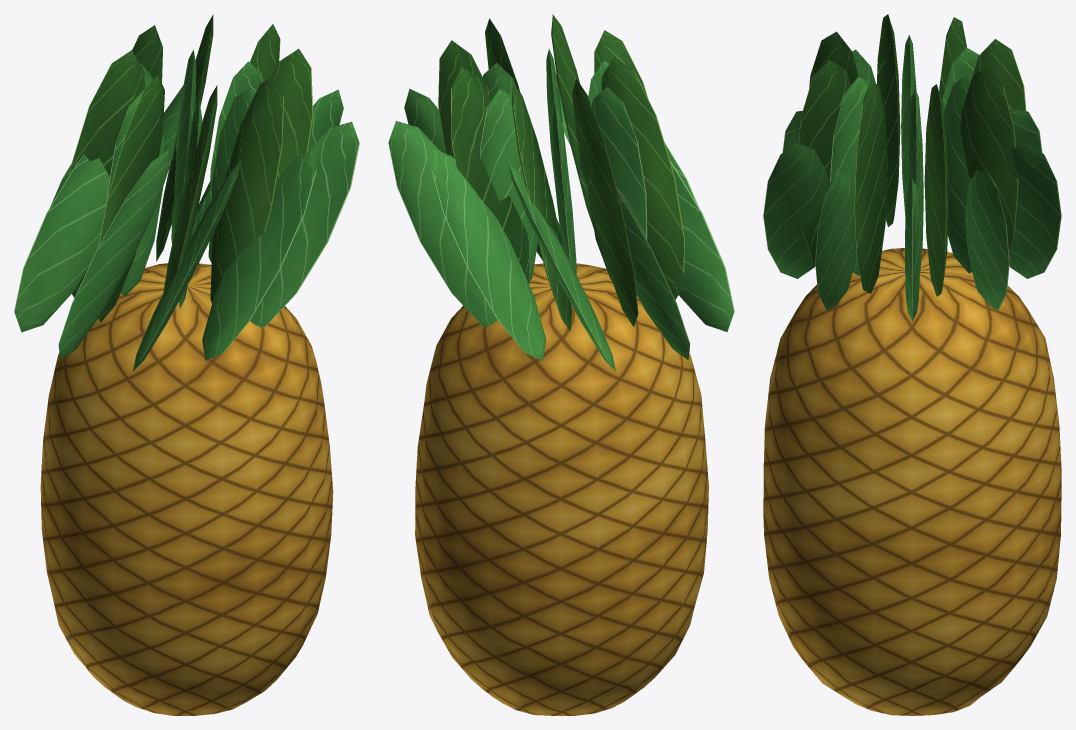
File: fruit_pineapple_whole.glb
The picture shows the model from 3 angles, left to right: view 1: azimuth 30°, elevation 25°; view 2: azimuth 150°, elevation 25°; view 3: azimuth 270°, elevation 25°; orthographic projection. The views are drawn at different scales.
Visible parts, largest first — view 1: fruit_pineapple_whole; view 2: fruit_pineapple_whole; view 3: fruit_pineapple_whole.
Boxes of the visible parts, x1,y1,x2,y2 form: fruit_pineapple_whole: (14, 14, 359, 715); fruit_pineapple_whole: (388, 14, 734, 715); fruit_pineapple_whole: (763, 14, 1061, 715).
Bounding box in the file's own units: 0.1264 × 0.2504 × 0.1029.
3 materials, 3 textured.
